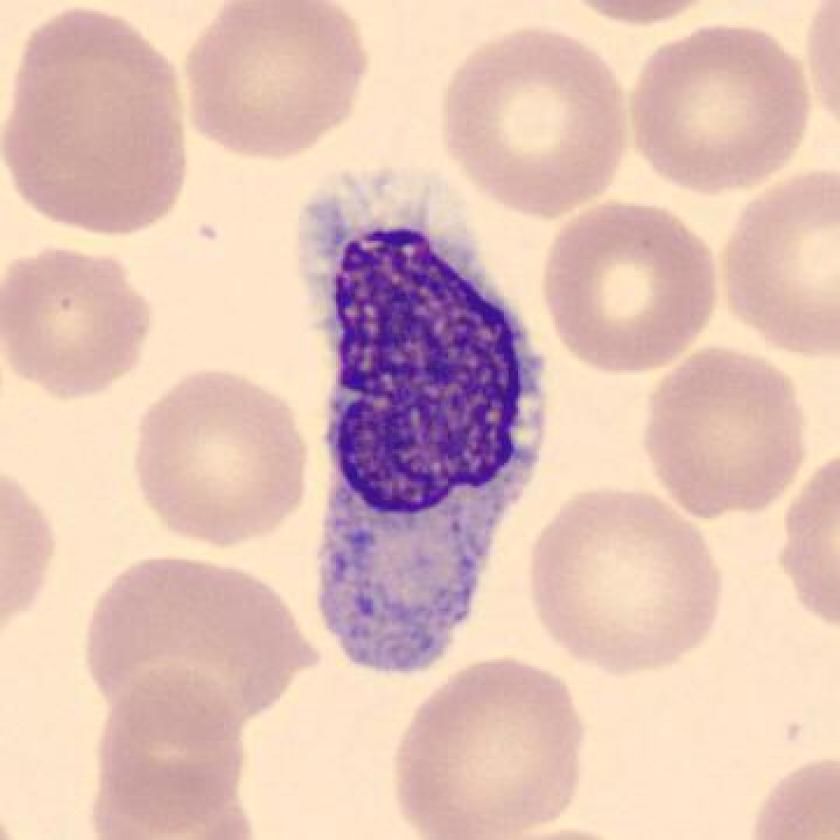monocyte: (270, 154, 564, 688)
